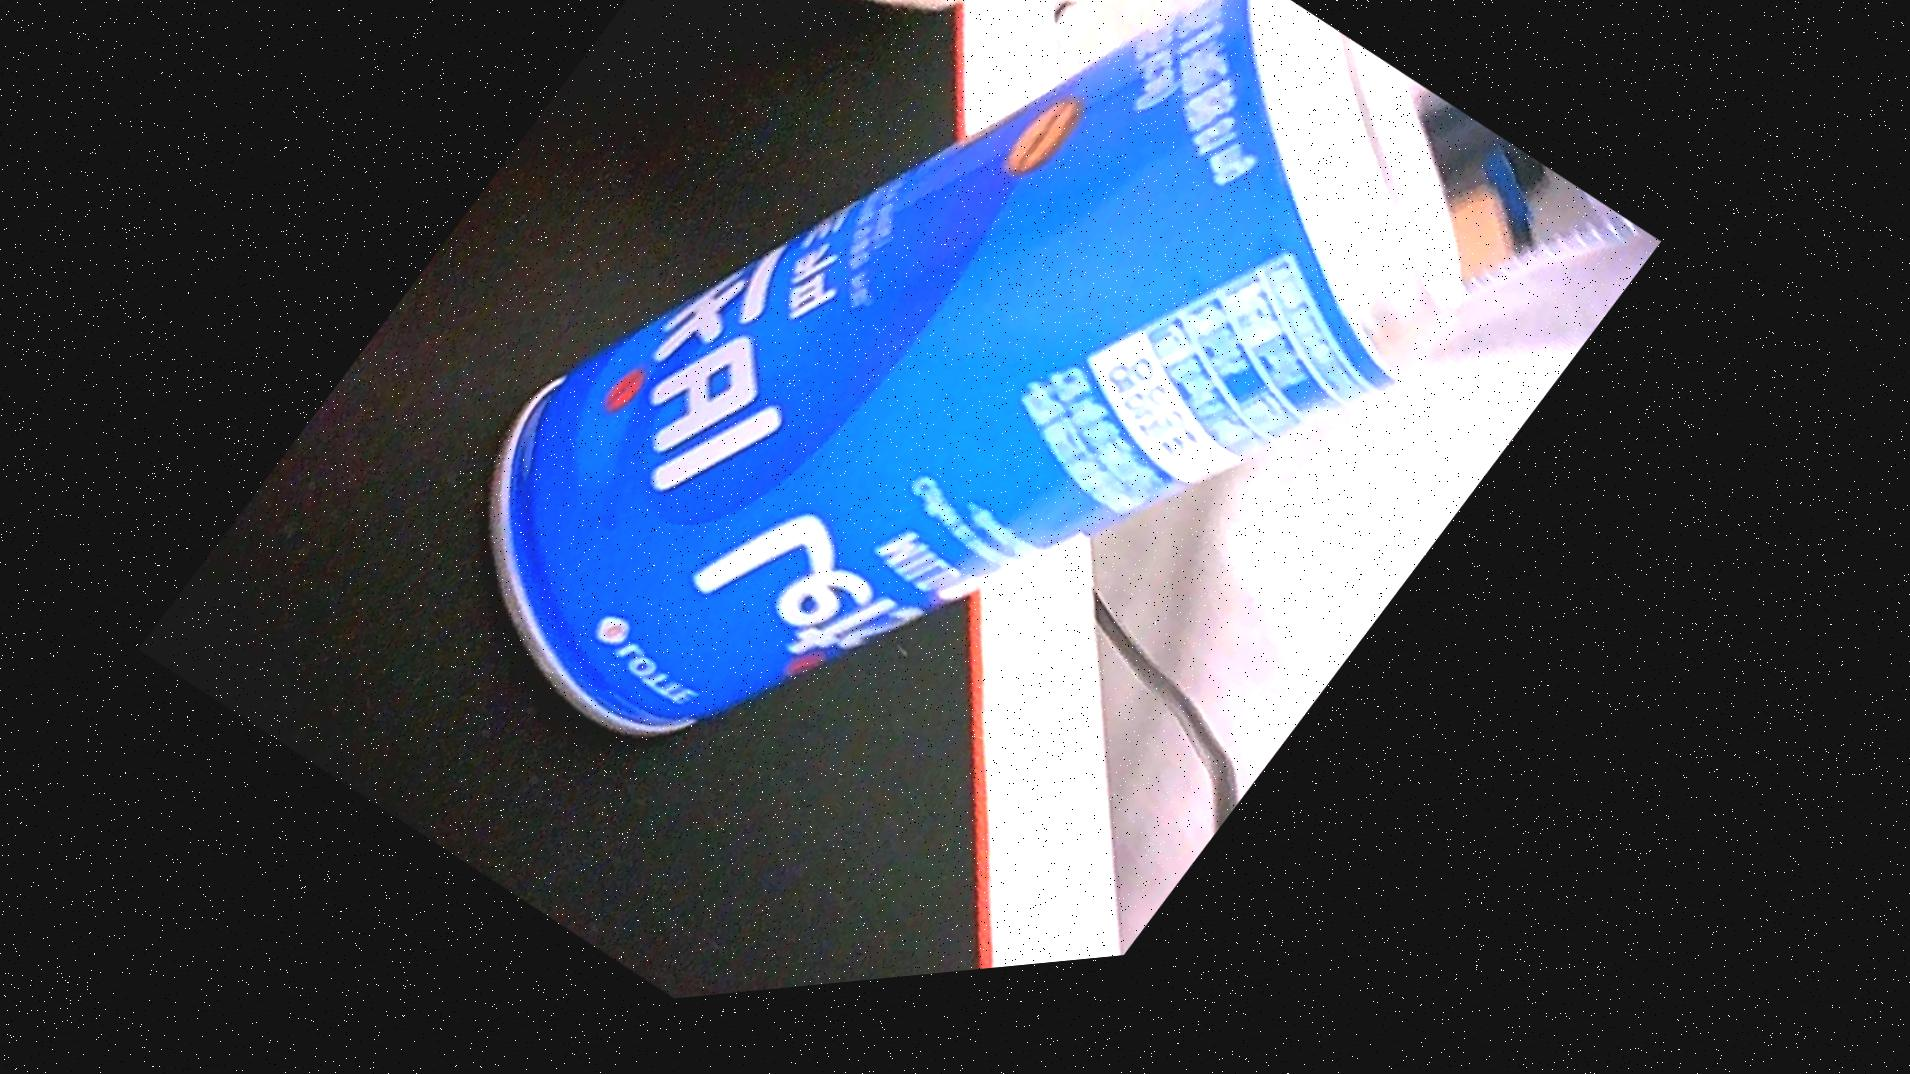letsbe: (359, 0, 1593, 1035)
